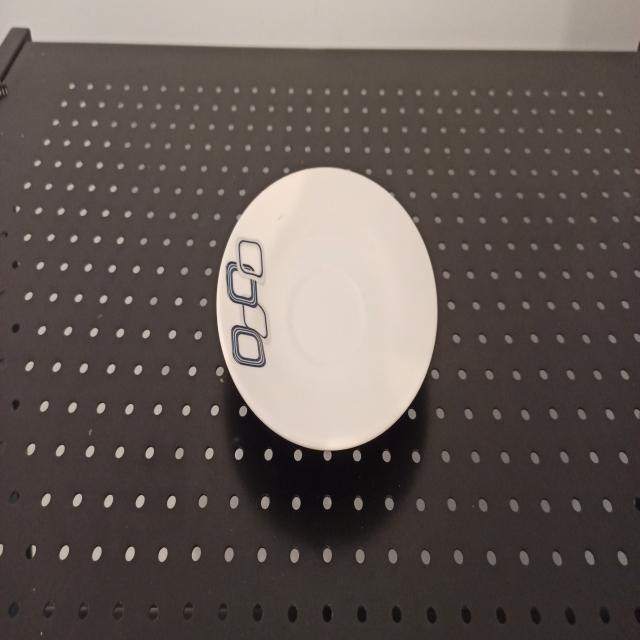ceramic plate: (198, 154, 450, 460)
